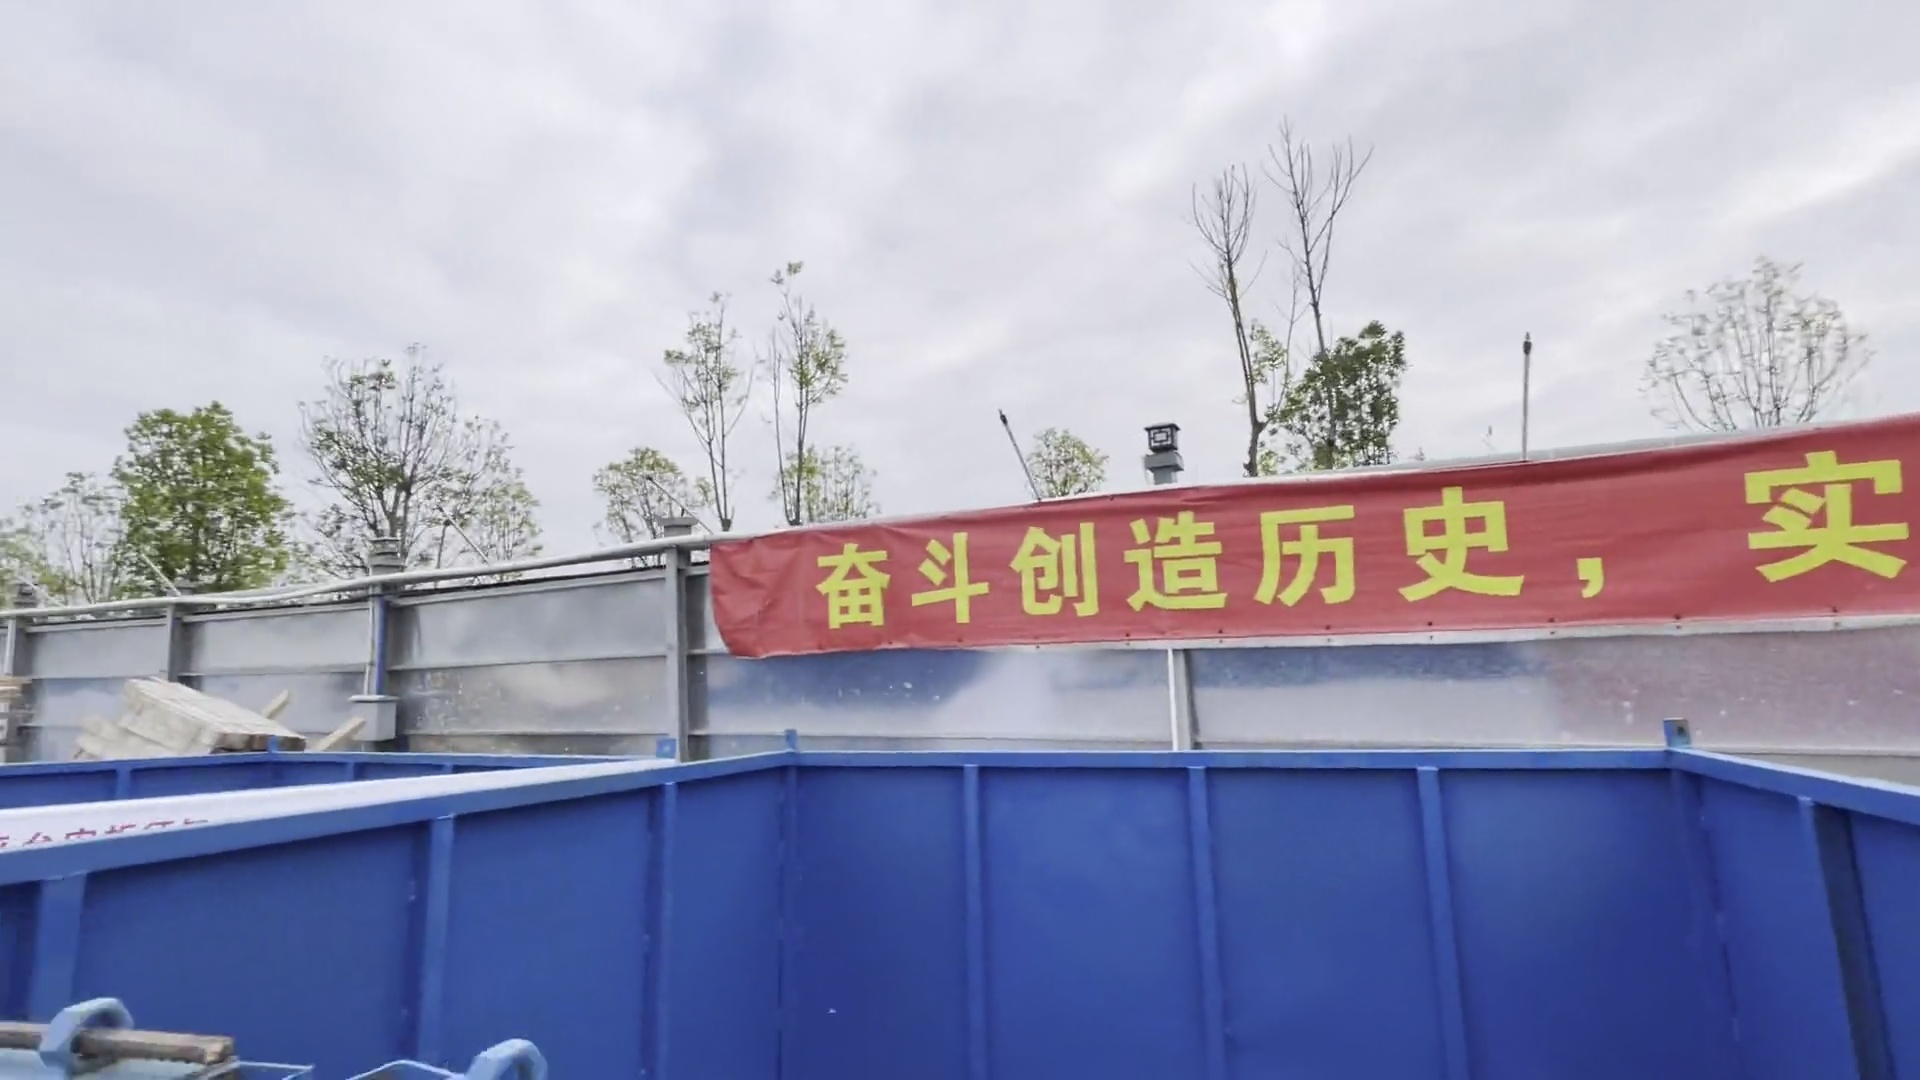slogan: (700, 427, 1920, 655)
